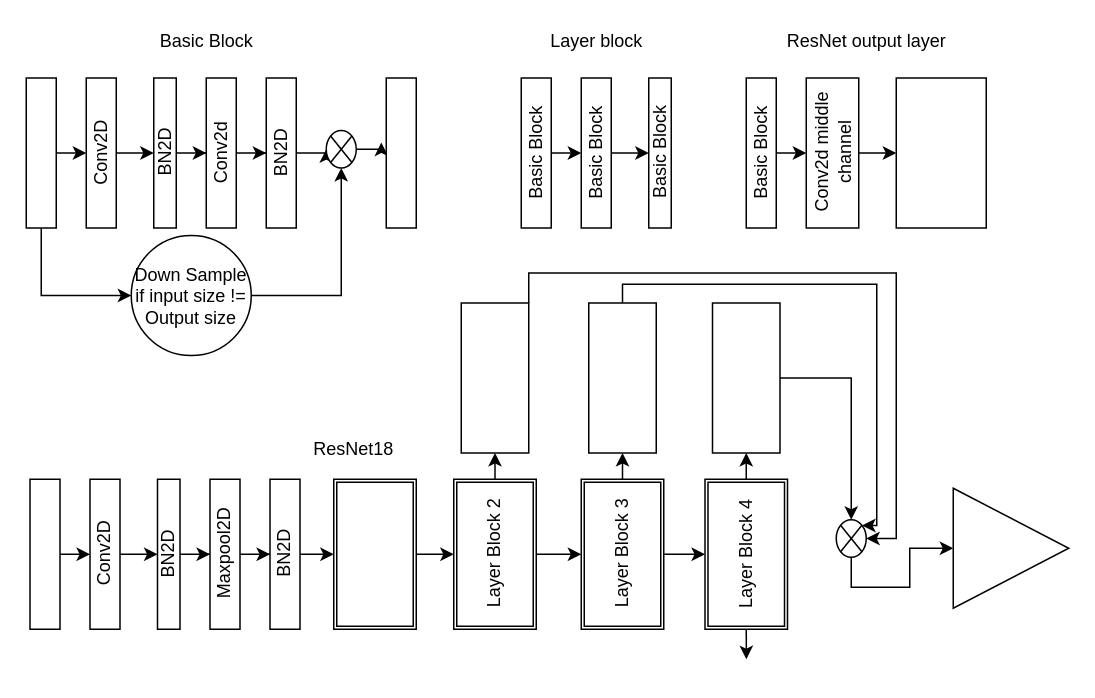
Some shapes in this 1095 by 698 pixel diagram are drawn without their labels. The centre of each missing label's shape, as x and y in pixels:
"Conv2d out channel (19 classes)" goes at (x=940, y=152).
"Input" goes at (x=40, y=152).
"Input(448,448)" goes at (x=44, y=553).
"Layer Block 1" goes at (x=374, y=553).
"Output" goes at (x=400, y=152).
"Output 448*448" goes at (x=1010, y=547).
"ResNet Output 1" goes at (x=494, y=377).
"ResNet Output 2" goes at (x=621, y=377).
"ResNet Output 3" goes at (x=745, y=377).
